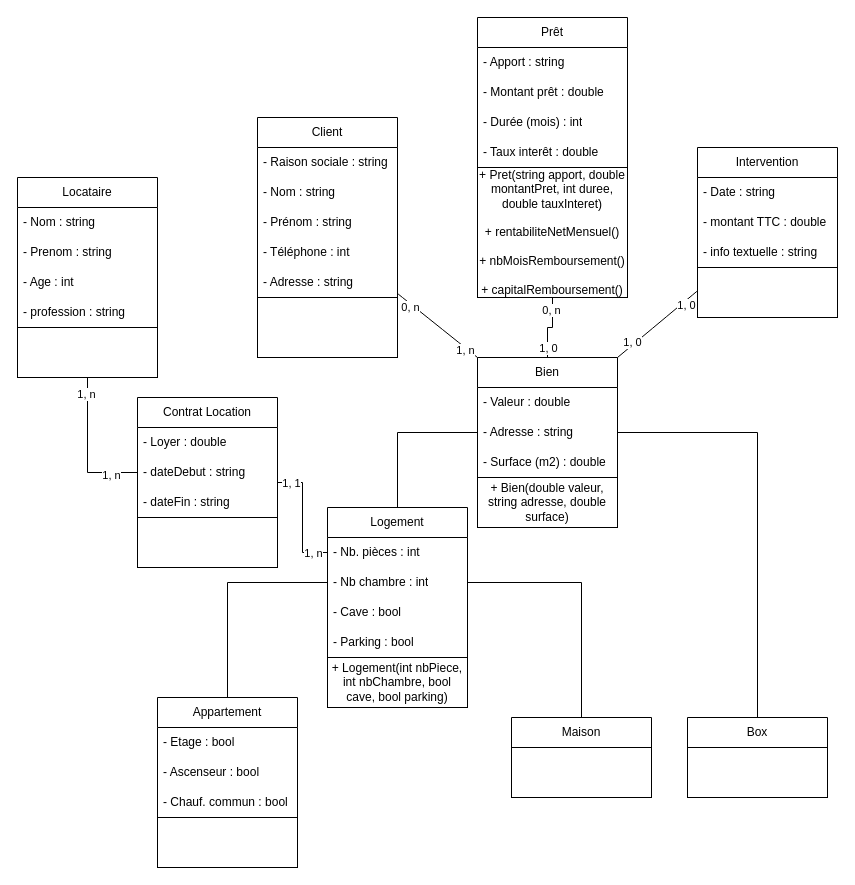
Some shapes in this 855 by 885 pixel diagram are drawn without their labels. Each missing label, with the box of its shape:
+ Appartement(bool etage, bool ascenseur, bool chauffageCommun): (156, 816, 298, 868)
+ Box(): (686, 746, 828, 798)
+ Client(string raisonSociale, string prenom, int tel, string adresse): (256, 296, 398, 358)
+ ContratLocation(double loyer, string dateDebut, string dateFin): (136, 516, 278, 568)
+ Intervention(string date, double montantTTC, string infoTextuelle): (696, 266, 838, 318)
+ Locataire(string nom, string prenom, int age, string profession): (16, 326, 158, 378)
+ Maison(): (510, 746, 652, 798)
